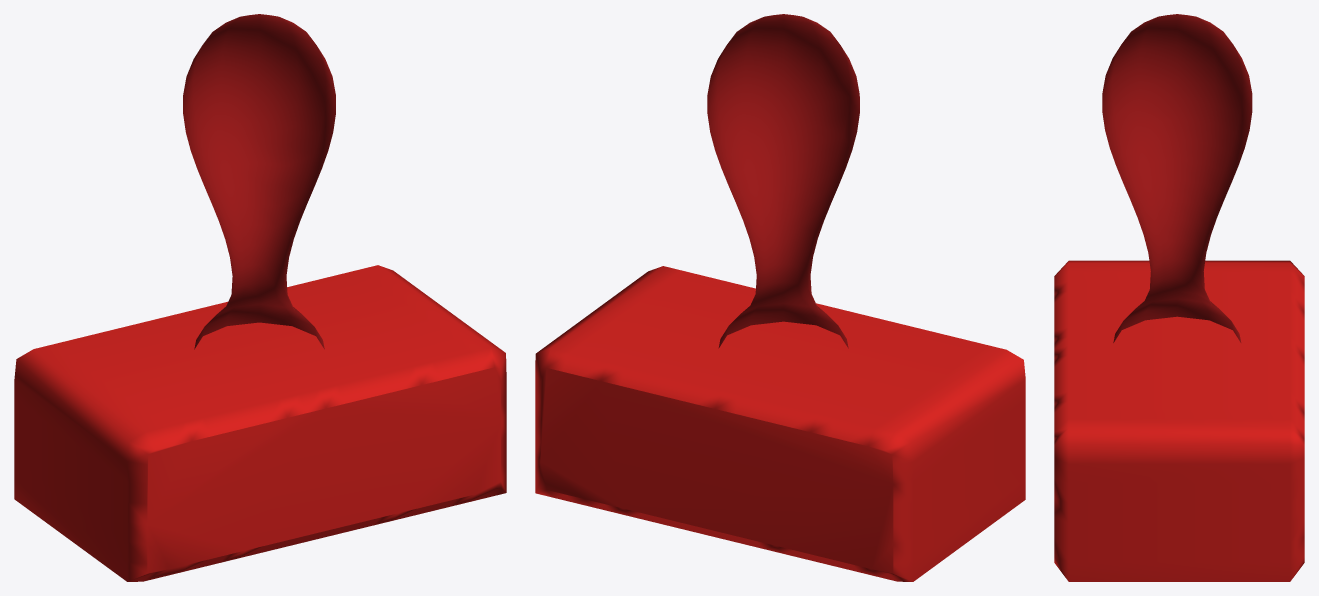
Rendered from stamp_red.glb.
3 views of the same model, side by side, from view 1: azimuth 30°, elevation 25°; view 2: azimuth 150°, elevation 25°; view 3: azimuth 270°, elevation 25° (orthographic).
Parts seen in each view (by area): view 1: Body, Handle; view 2: Body, Handle; view 3: Body, Handle.
Boxes of the visible parts, bbox=[...] form: Body: bbox=[14, 265, 506, 581]; Handle: bbox=[183, 14, 335, 349]; Body: bbox=[535, 266, 1025, 581]; Handle: bbox=[707, 14, 859, 348]; Body: bbox=[1054, 260, 1304, 581]; Handle: bbox=[1102, 14, 1252, 342].
Bounding box in the file's own units: 0.8279 × 1 × 0.4825.
